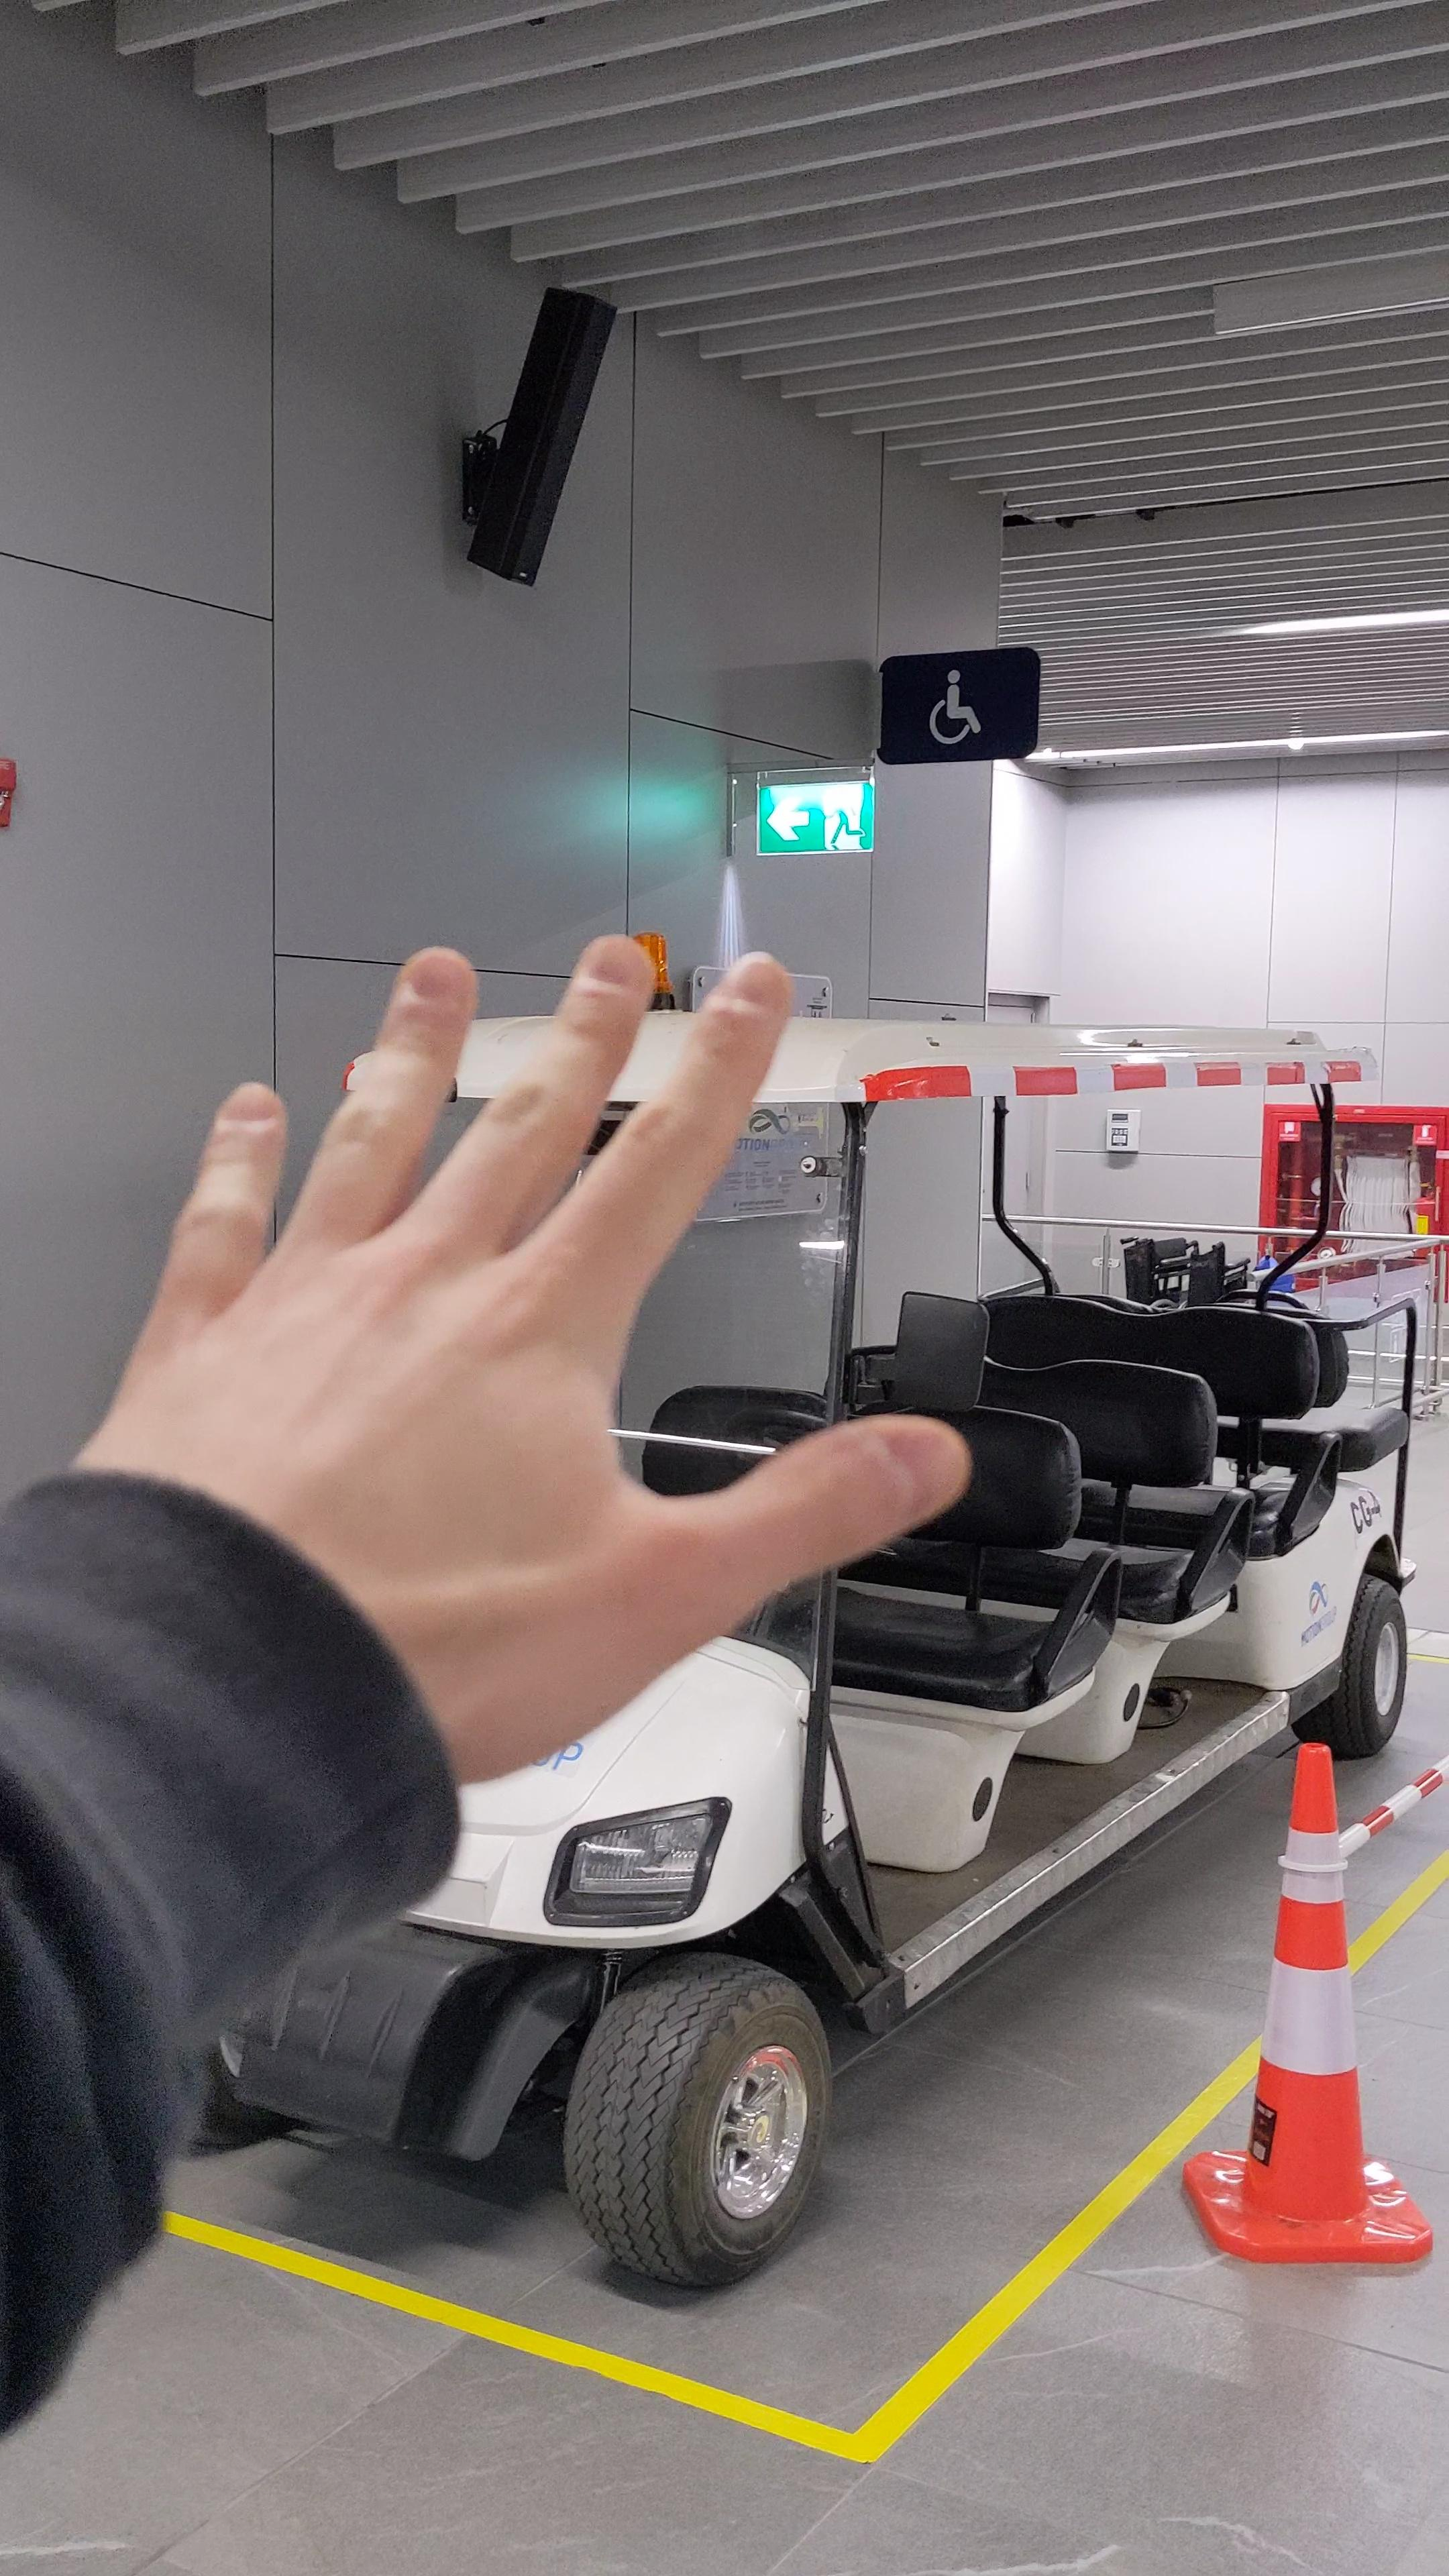emergency exit: (819, 784, 867, 851)
emergency left arrow: (764, 793, 812, 844)
handicapped symbol: (925, 667, 982, 747)
